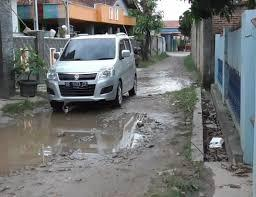Pothole: (0, 98, 159, 187), (126, 65, 190, 96)
